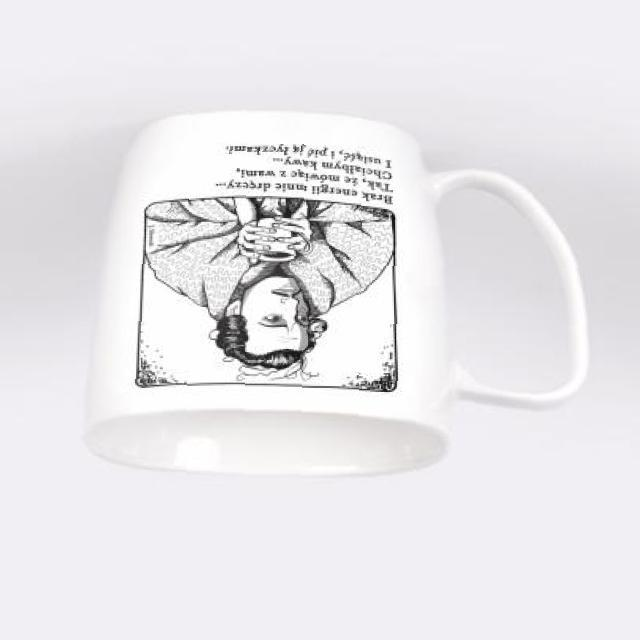cup: (64, 100, 599, 488)
